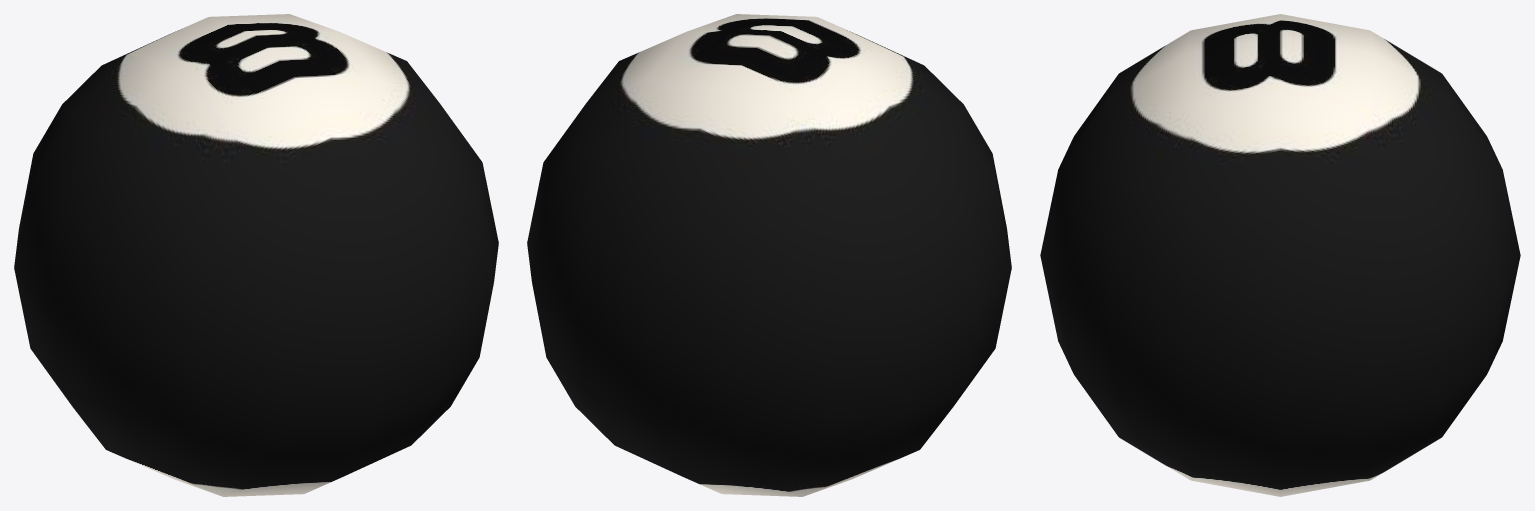
Rendered from ball_08.fbx.
3 views of the same model, side by side, from view 1: azimuth 30°, elevation 25°; view 2: azimuth 150°, elevation 25°; view 3: azimuth 270°, elevation 25° (orthographic).
Visible parts, largest first — view 1: BilliardBall.008; view 2: BilliardBall.008; view 3: BilliardBall.008.
Boxes of the visible parts, <box> form: BilliardBall.008: <box>14,14,498,496</box>; BilliardBall.008: <box>527,14,1011,496</box>; BilliardBall.008: <box>1040,14,1520,496</box>.
Size of the model in its own units: 0.0753 by 0.0753 by 0.0753.
